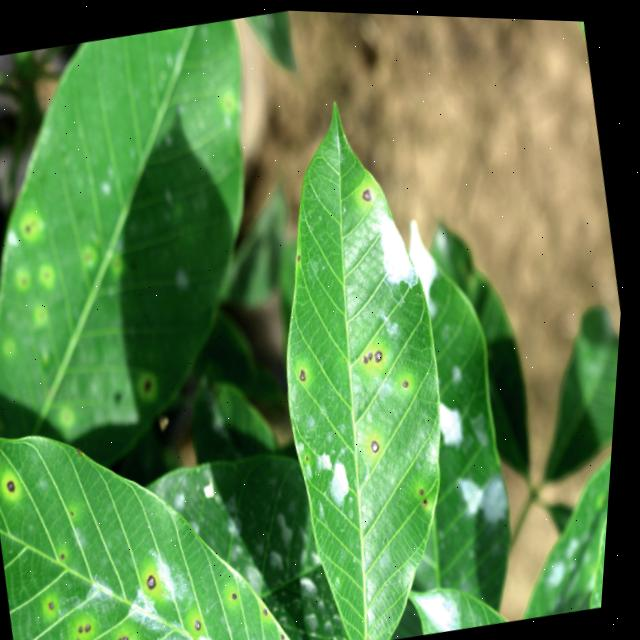Colletotrichum: (153, 572, 166, 590), (363, 186, 375, 200), (376, 437, 387, 450), (378, 347, 388, 360), (13, 480, 23, 493), (304, 366, 312, 380), (202, 618, 211, 629), (407, 376, 415, 386), (372, 348, 378, 358), (270, 606, 277, 613), (368, 352, 373, 361), (240, 591, 245, 598)
